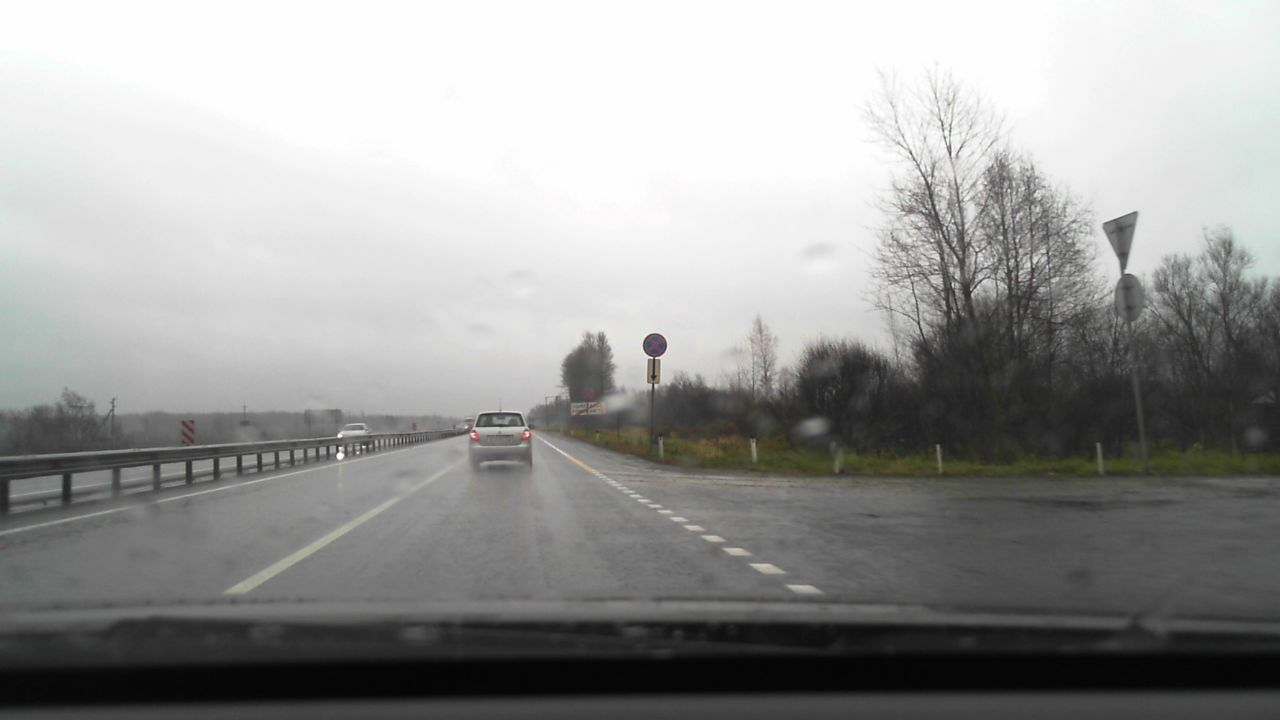No Parking: (642, 333, 667, 357)
